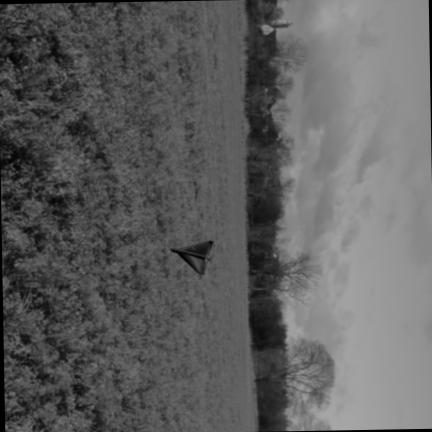Shahed: (169, 241, 211, 274)
